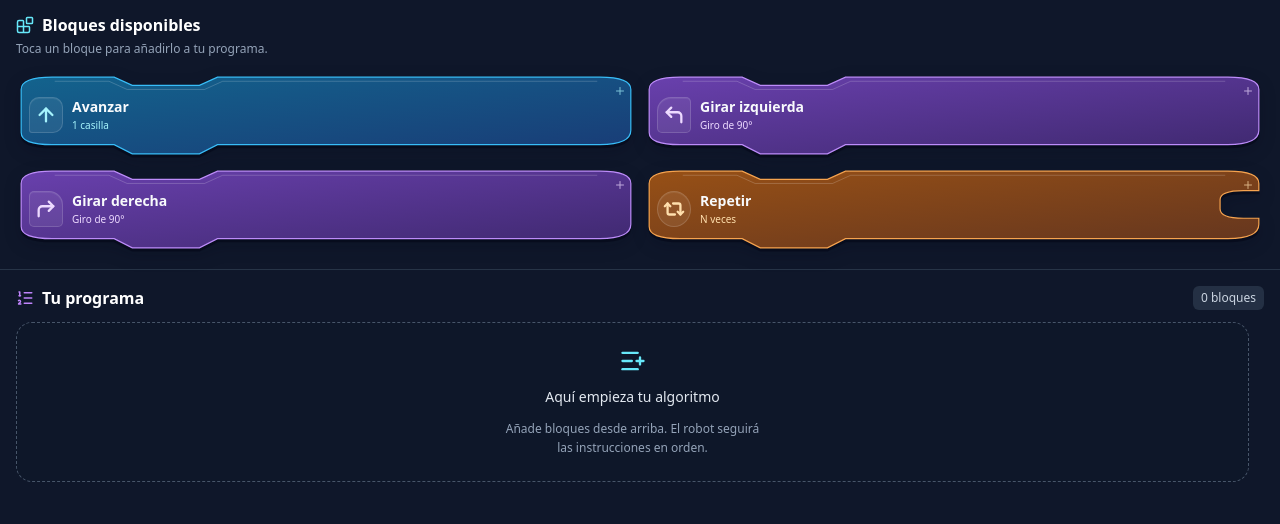
Test: laboratory editor controls › shares shaped visuals between library and sequence with unique gradient IDs
This screenshot has width=1280, height=524.
Click the button "Avanzar 1 casilla": (326, 114) [16,69,636,159]
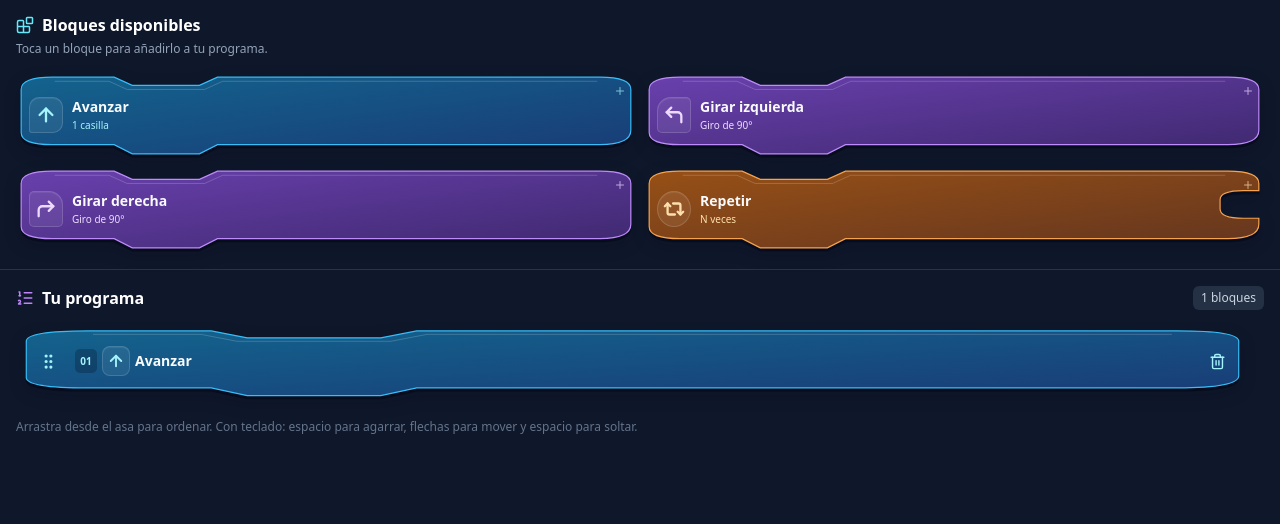
Click the button "Avanzar 1 casilla": (326, 114) [16,69,636,159]
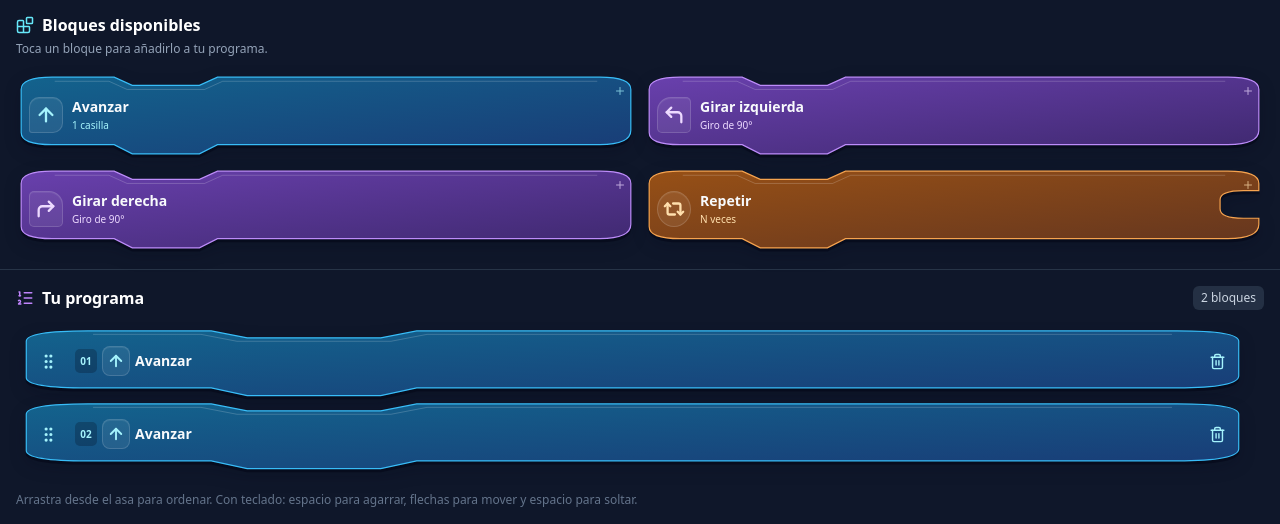
Expected: the number of icons with class "code-piece__shape" is 6, [16,69,636,159]; [644,69,1264,159]; [16,163,636,253]; [644,163,1264,253]; [16,324,1249,400]; [16,397,1249,473]
Expected: the button named "Mover instrucción 2: Avanzar" is shown, [26,412,70,456]
